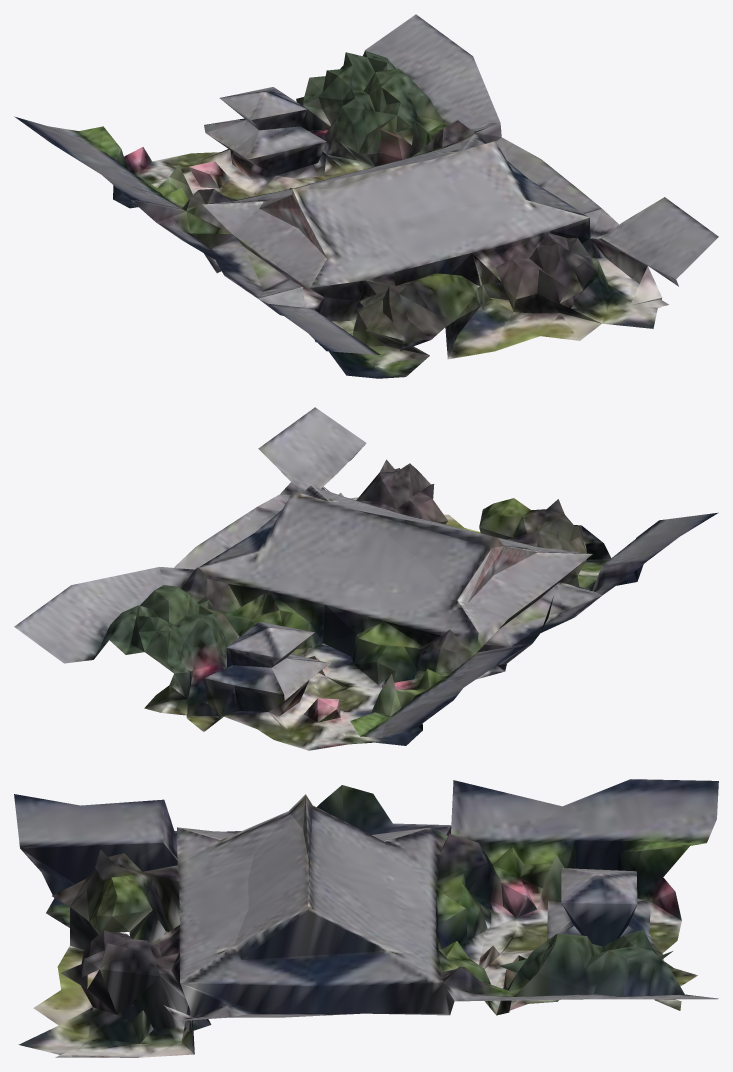
The model's file is Tile_+006_+004_L17_00.glb.
The picture shows the model from 3 angles, top to bottom: view 1: azimuth 30°, elevation 25°; view 2: azimuth 150°, elevation 25°; view 3: azimuth 270°, elevation 25°; orthographic projection. The views are drawn at different scales.
Bounding box in the file's own units: 45.86 × 11.64 × 60.67.
Materials: 1 (1 with a texture image).
